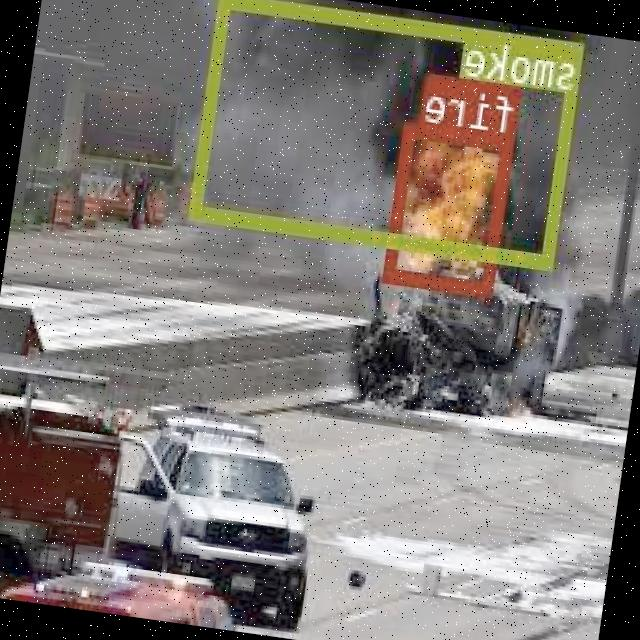fire: (385, 122, 516, 294)
smoke: (192, 0, 588, 267)
